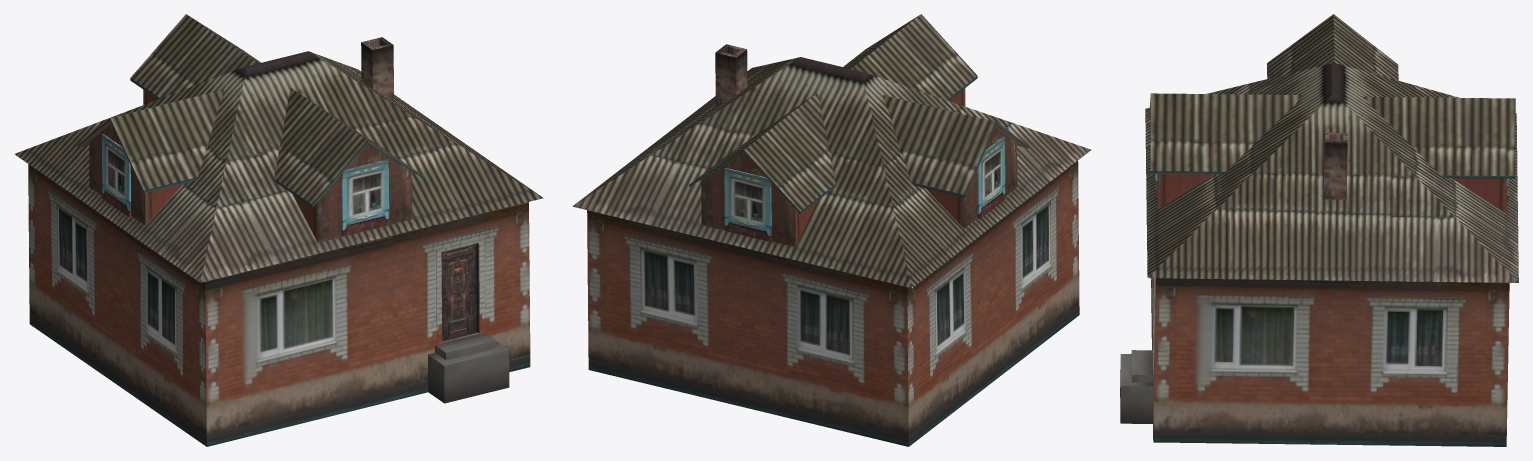
The model's file is House_One.gltf.
The picture shows the model from 3 angles, left to right: view 1: azimuth 30°, elevation 25°; view 2: azimuth 150°, elevation 25°; view 3: azimuth 270°, elevation 25°; orthographic projection. The views are drawn at different scales.
Parts seen in each view (by area): view 1: Object_7.006; view 2: Object_7.006; view 3: Object_7.006.
Boxes of the visible parts, left/top/right/bottom form: Object_7.006: left=14, top=14, right=543, bottom=446; Object_7.006: left=572, top=14, right=1091, bottom=446; Object_7.006: left=1120, top=14, right=1518, bottom=446.
Size of the model in its own units: 31.68 by 25.02 by 31.36.
Materials: 1 (1 with a texture image).
